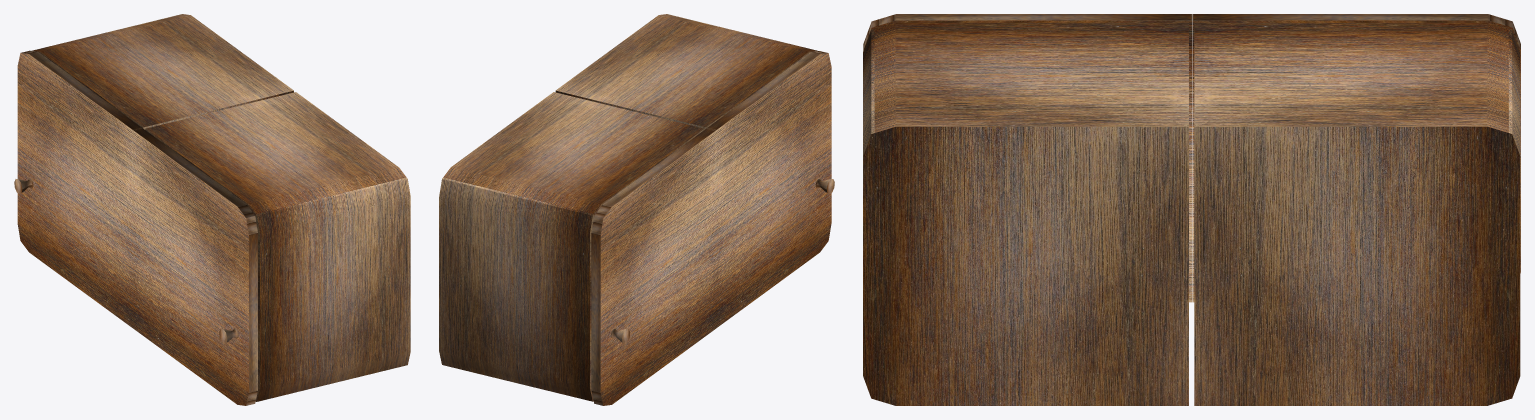
The model's file is placard_mural_01.FBX.
3 views of the same model, side by side, from view 1: azimuth 30°, elevation 25°; view 2: azimuth 150°, elevation 25°; view 3: azimuth 270°, elevation 25° (orthographic). The views are drawn at different scales.
Visible parts, largest first — view 1: Placard_miroir; view 2: Placard_miroir; view 3: Placard_miroir.
Boxes of the visible parts, x1,y1,x2,y2 form: Placard_miroir: (14, 14, 410, 405); Placard_miroir: (439, 14, 834, 405); Placard_miroir: (863, 14, 1520, 405).
Size of the model in its own units: 27.57 by 30.01 by 63.44.
